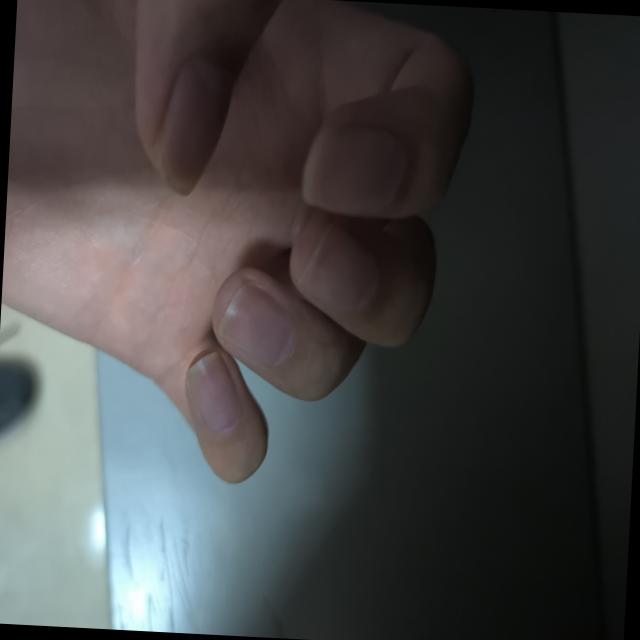Nail: (158, 57, 235, 196), (302, 123, 403, 216), (297, 225, 377, 312), (219, 284, 293, 369), (184, 350, 239, 434)
